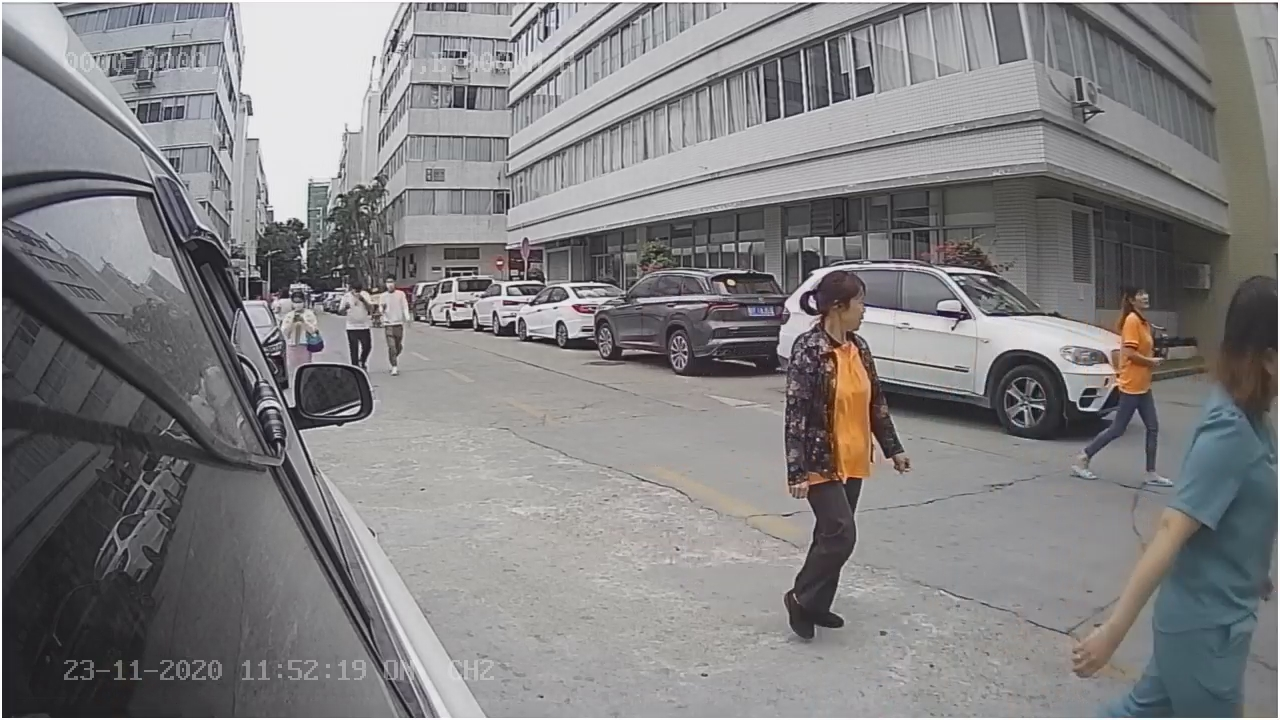person: (783, 265, 895, 647)
